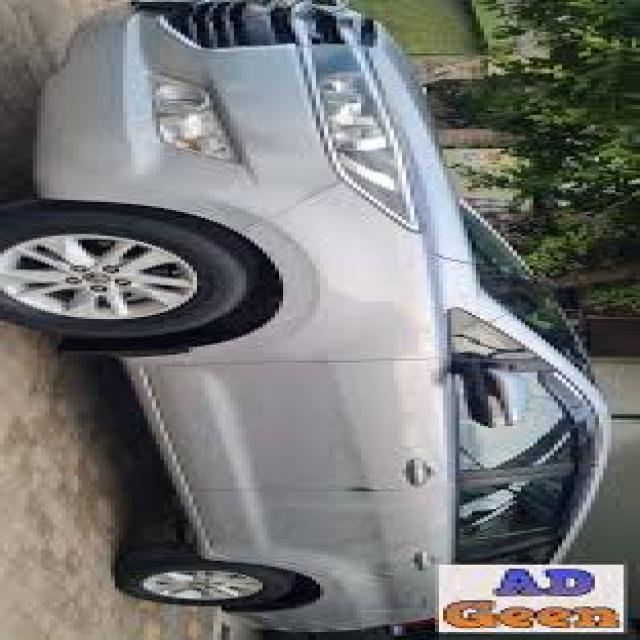light_vehicle: (0, 0, 615, 632)
